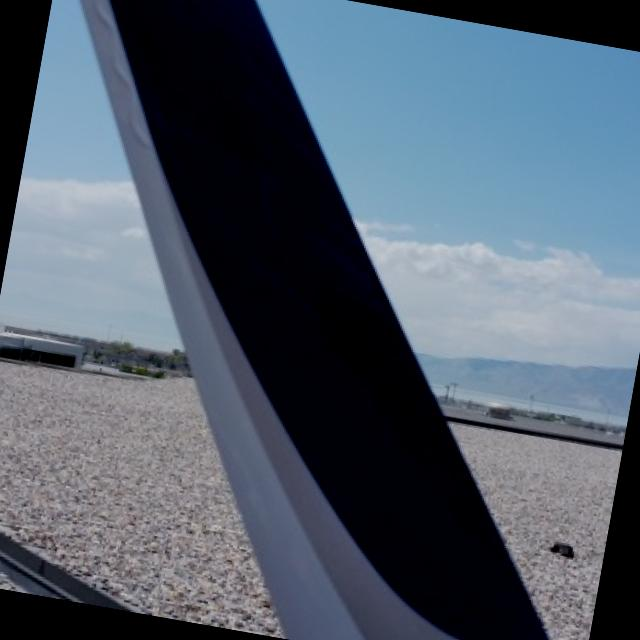healthy: (79, 0, 547, 640)
